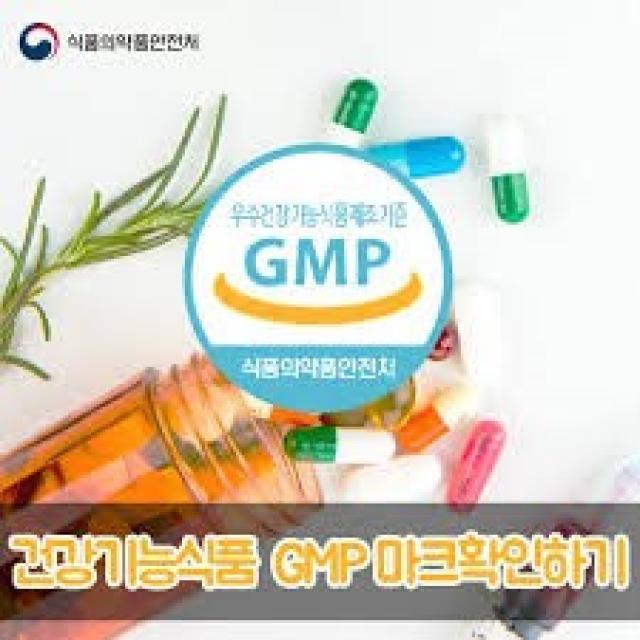GMP: (180, 141, 452, 413)
